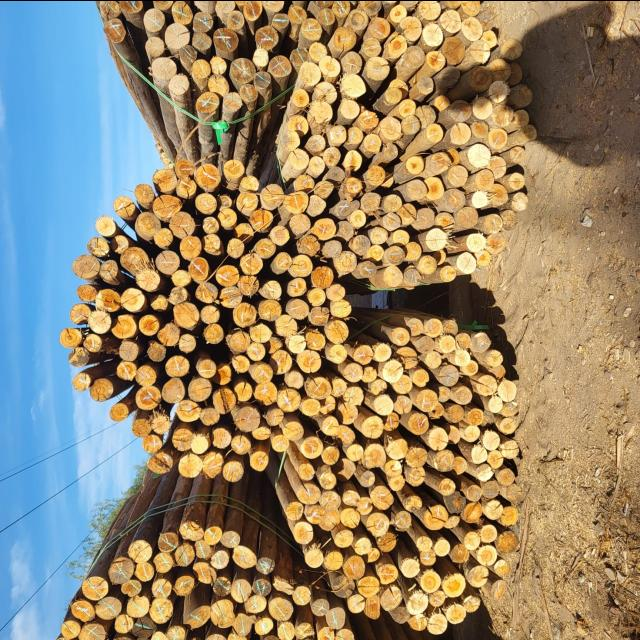package: (56, 152, 354, 478), (286, 313, 522, 633), (284, 0, 532, 292), (47, 519, 357, 640), (93, 0, 348, 120)
